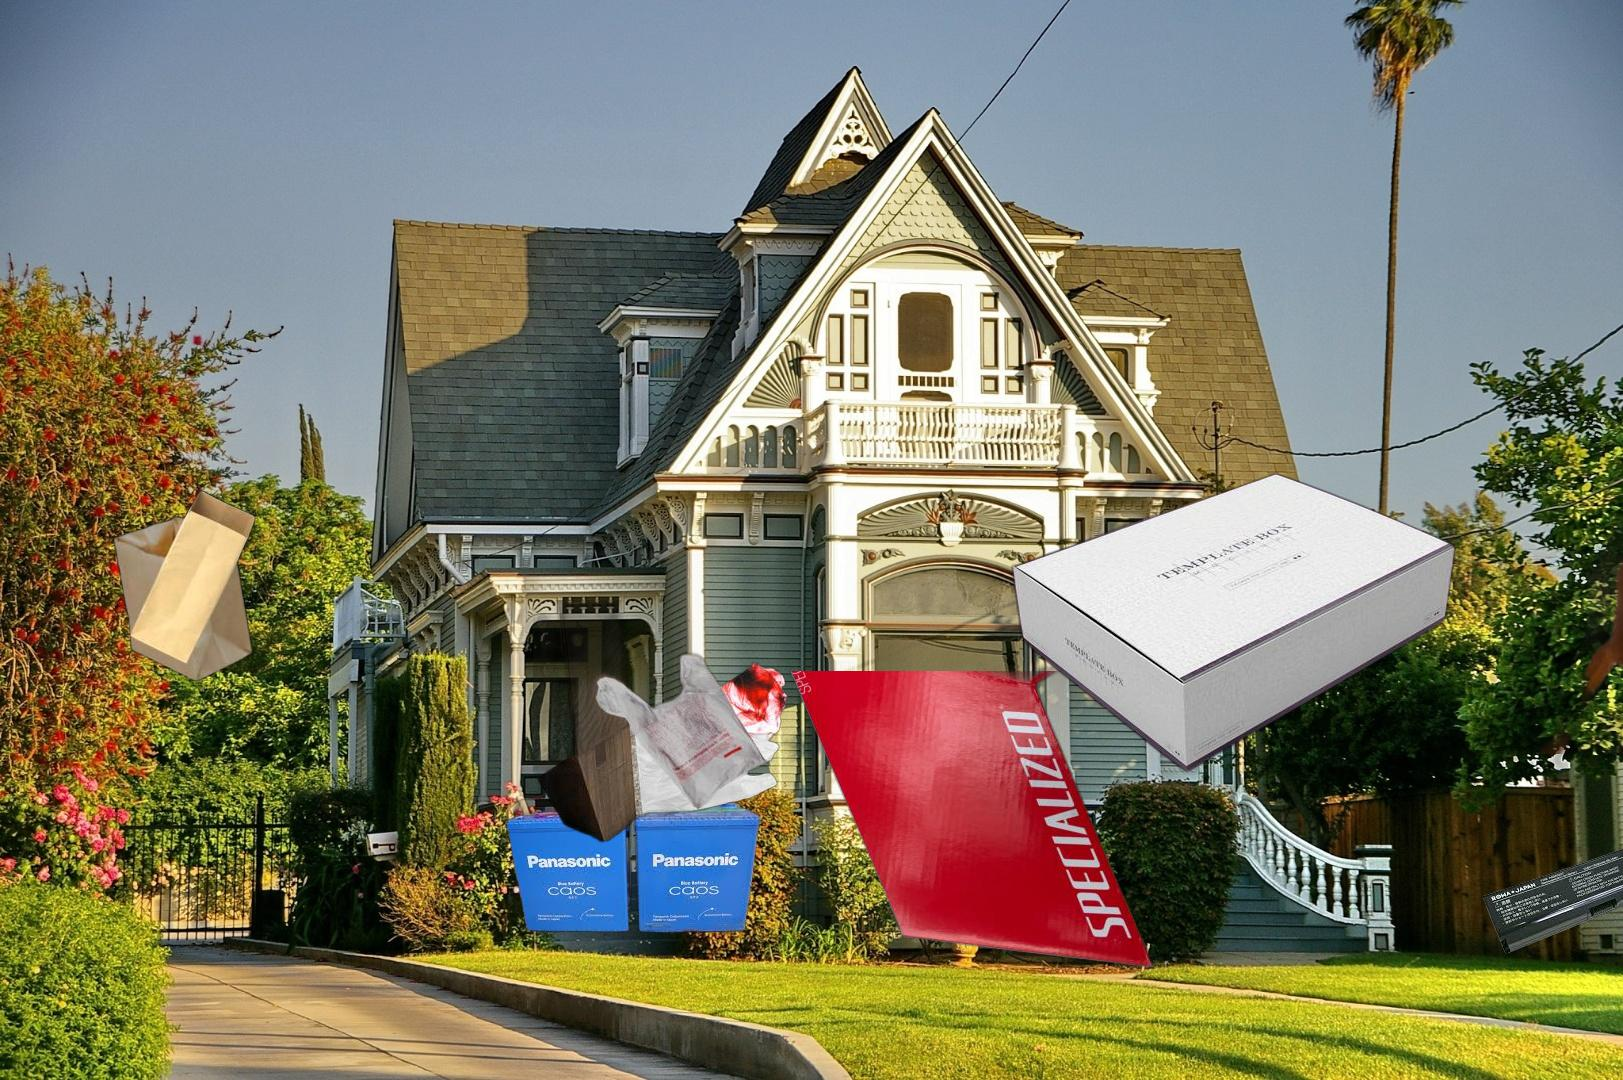battery: (502, 779, 761, 937), (1480, 826, 1623, 956)
glass: (1528, 370, 1623, 755)
paper-bag: (112, 489, 258, 683)
plastic-bag: (533, 600, 789, 844)
trashbox-cardboard: (1007, 470, 1462, 774), (786, 671, 1162, 972)
